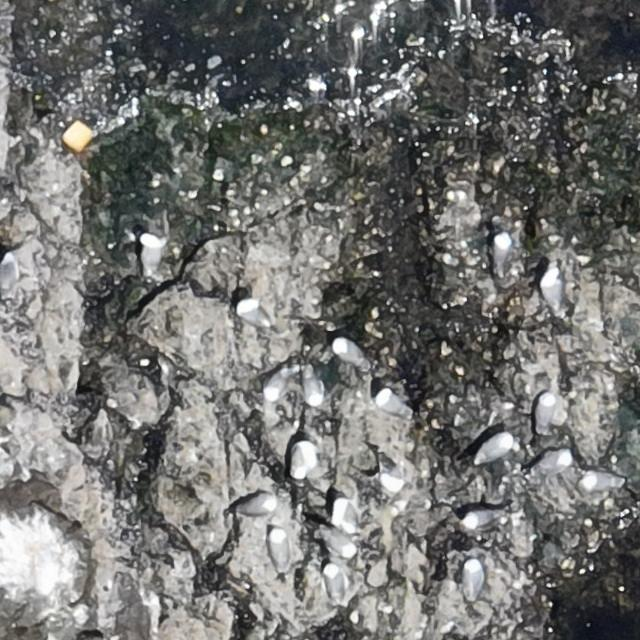umineko: (380, 474, 424, 506), (290, 442, 321, 486), (316, 524, 356, 557), (374, 388, 415, 418), (533, 392, 558, 439), (534, 448, 574, 477), (231, 493, 277, 518), (262, 365, 293, 402), (298, 361, 322, 407), (330, 499, 359, 535), (477, 435, 511, 460), (333, 339, 363, 364), (542, 270, 562, 307), (582, 471, 619, 490), (237, 301, 265, 326), (464, 560, 482, 598), (494, 230, 512, 267), (269, 532, 286, 570), (142, 238, 160, 272), (464, 510, 497, 528), (326, 566, 342, 600)
